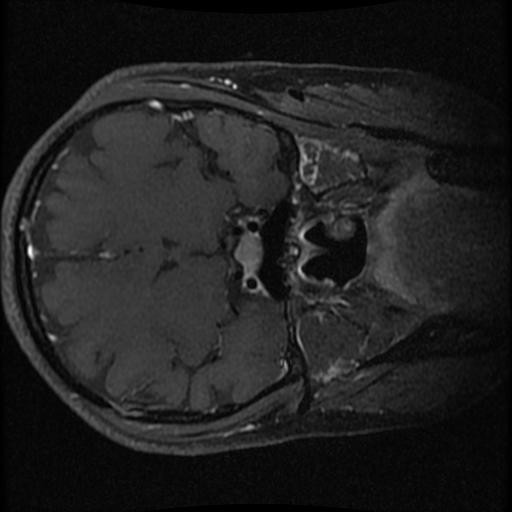pituitary tumour: (235, 232, 259, 274)
